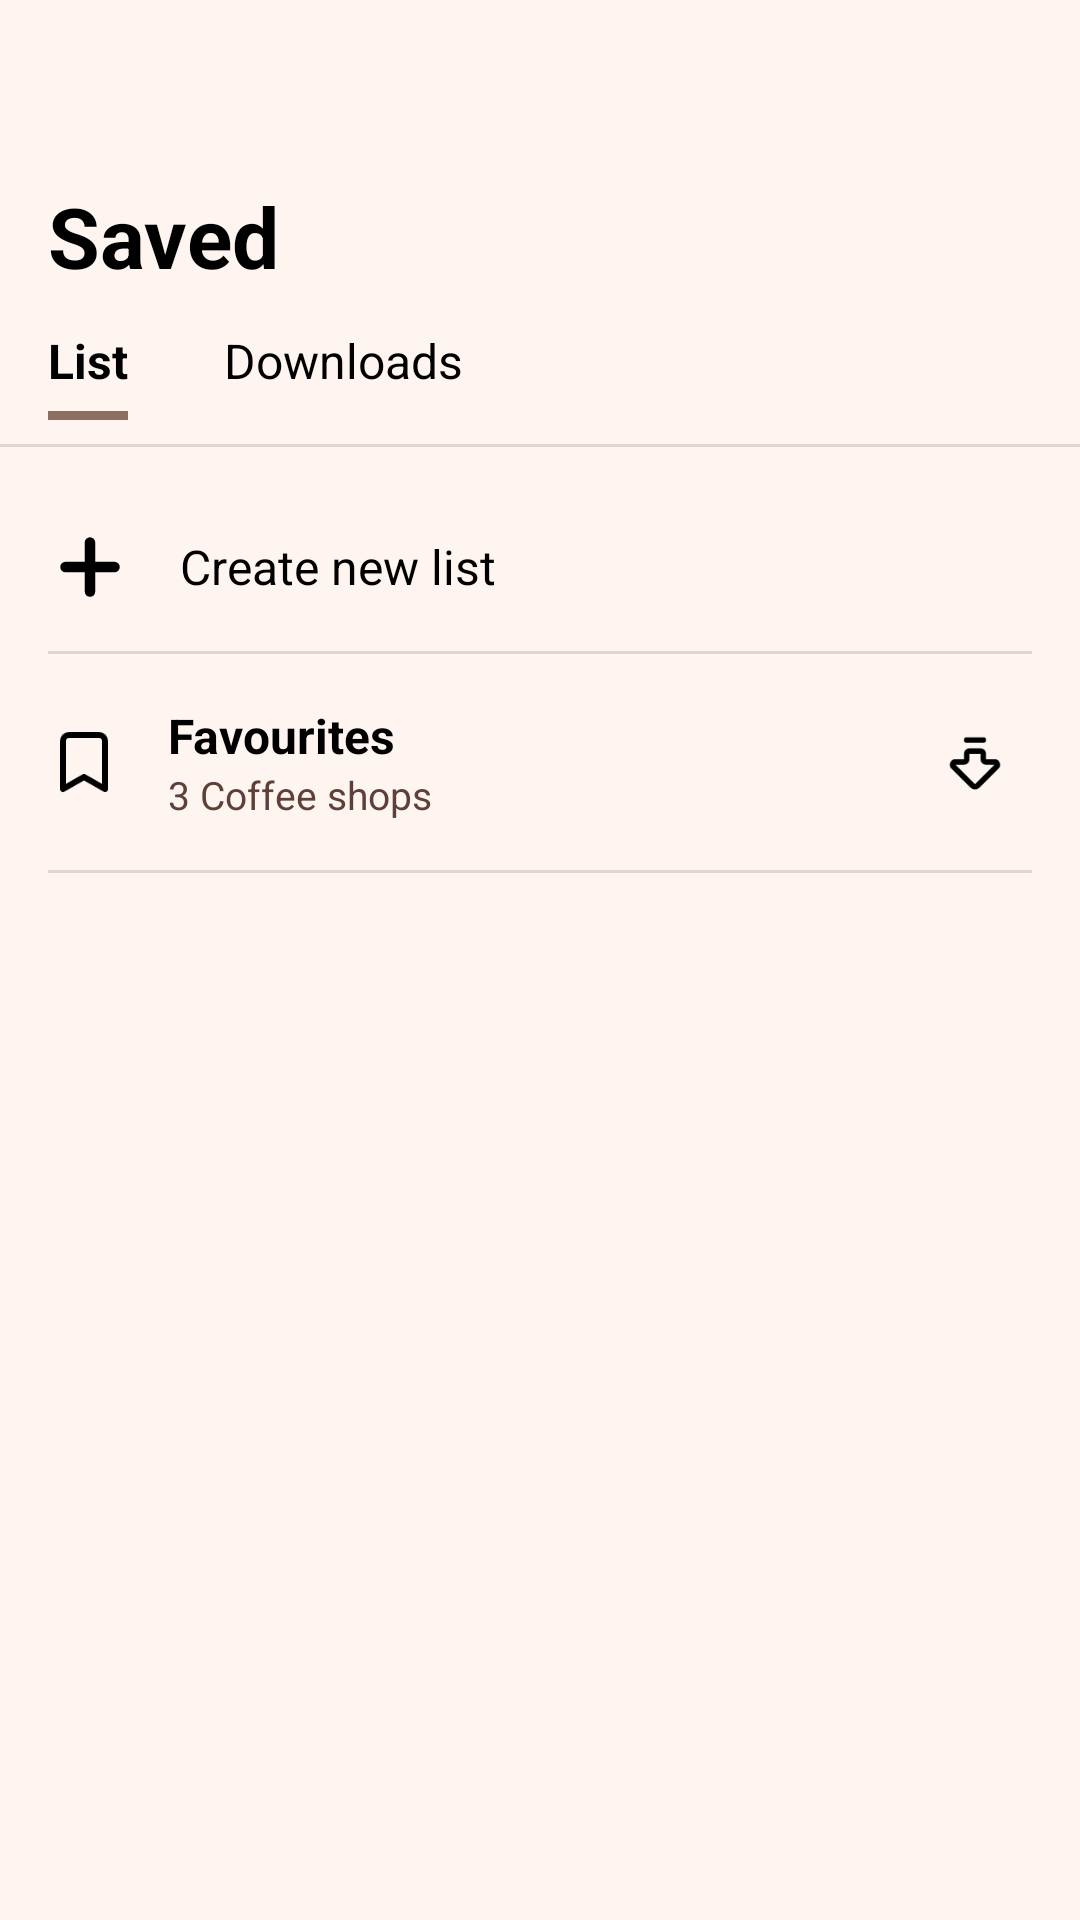

Named icons in this screenshot (1080x1920) and their centers, (x,y):
ctc arrow download: (975,763)
ctc bookmark: (84,762)
ctc plus: (90,567)
